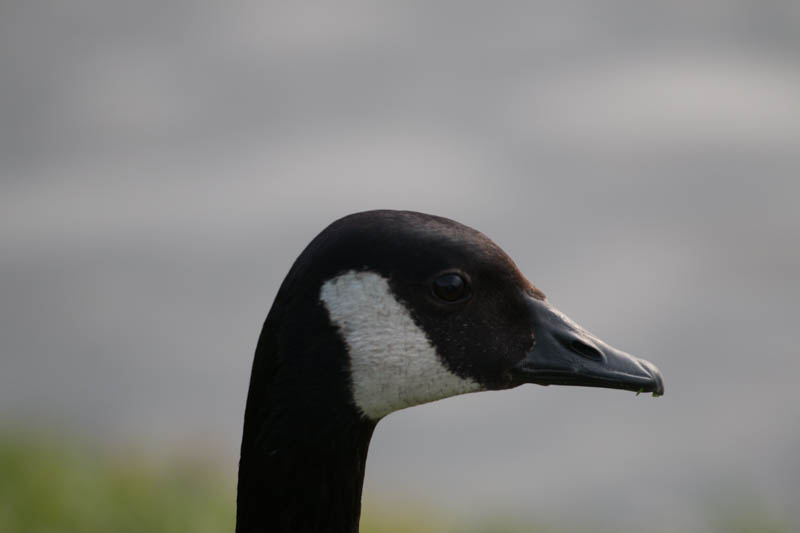goose-head: (252, 211, 666, 422)
